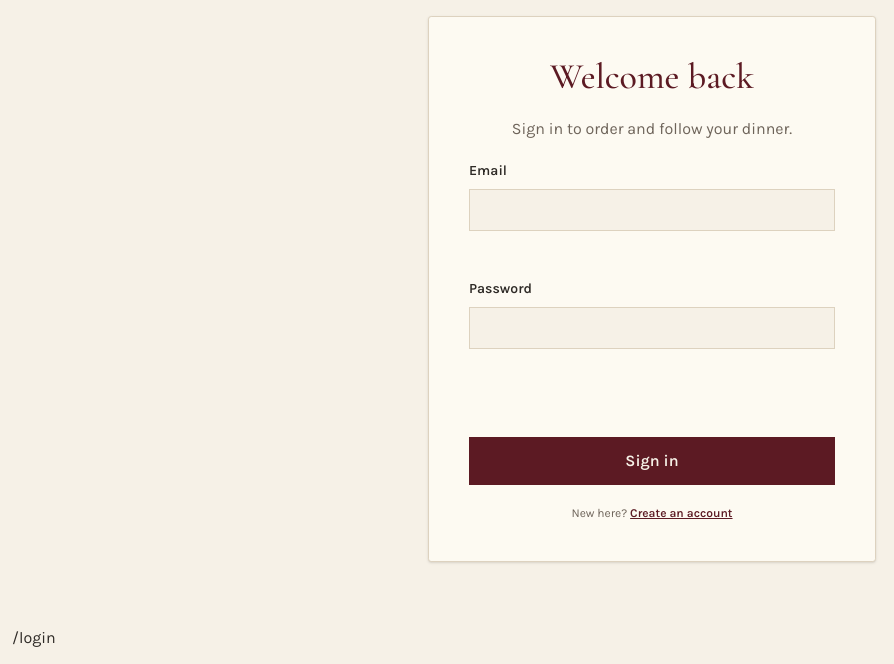
Test: LoginPage › explains what is missing, field by field, and sends nothing
This screenshot has width=894, height=664.
Click the button "Sign in".
click(652, 461)  # box [469,437,835,485]
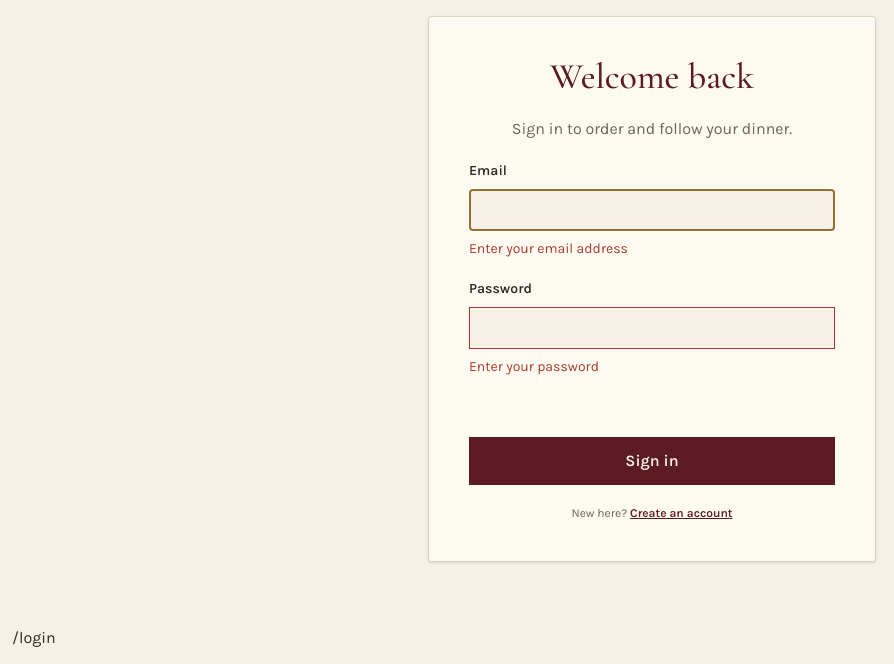
Expected: the messages read "Enter your email address", "Enter your password", in this order, [469,240,628,257]; [469,358,599,375]
